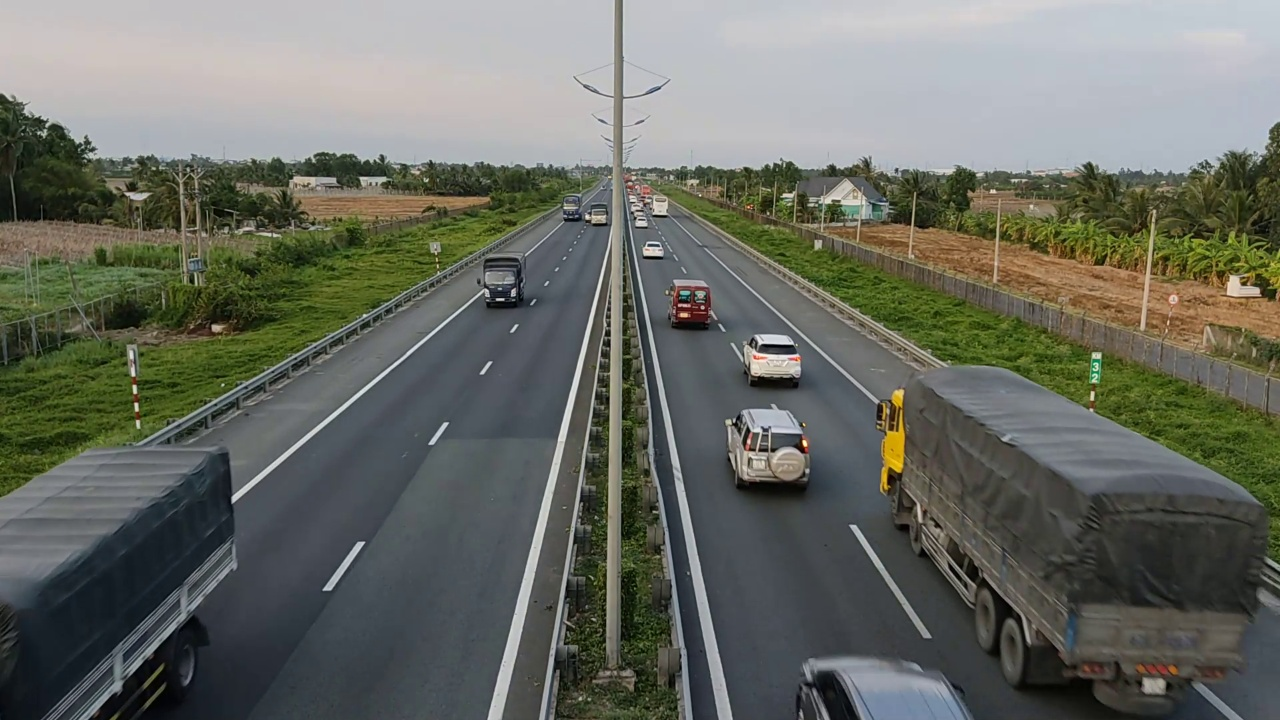car: (793, 653, 975, 719), (723, 404, 811, 489), (739, 332, 803, 387), (666, 274, 717, 330), (642, 239, 664, 257)
truck: (874, 365, 1272, 715), (1, 442, 239, 716), (480, 254, 527, 307)
